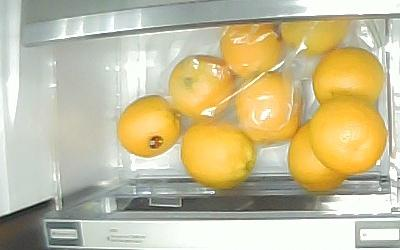orange: (309, 97, 388, 174), (181, 120, 256, 189), (288, 119, 348, 193), (312, 48, 385, 106), (117, 95, 182, 158)
orange_vinyl: (236, 72, 302, 145), (169, 55, 236, 121), (220, 22, 284, 79), (280, 17, 351, 55)
